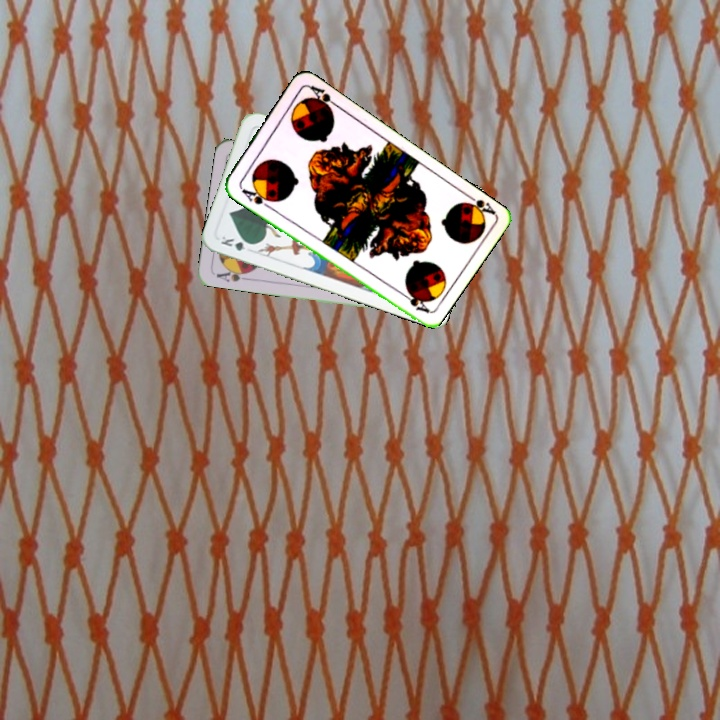GK: (217, 231, 256, 254)
SA: (457, 189, 498, 222), (236, 182, 275, 210), (212, 264, 253, 284)
